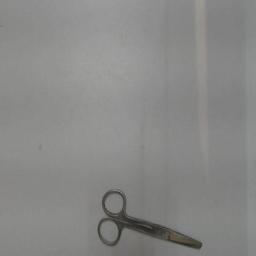Dressing Scissors: (94, 183, 206, 253)
